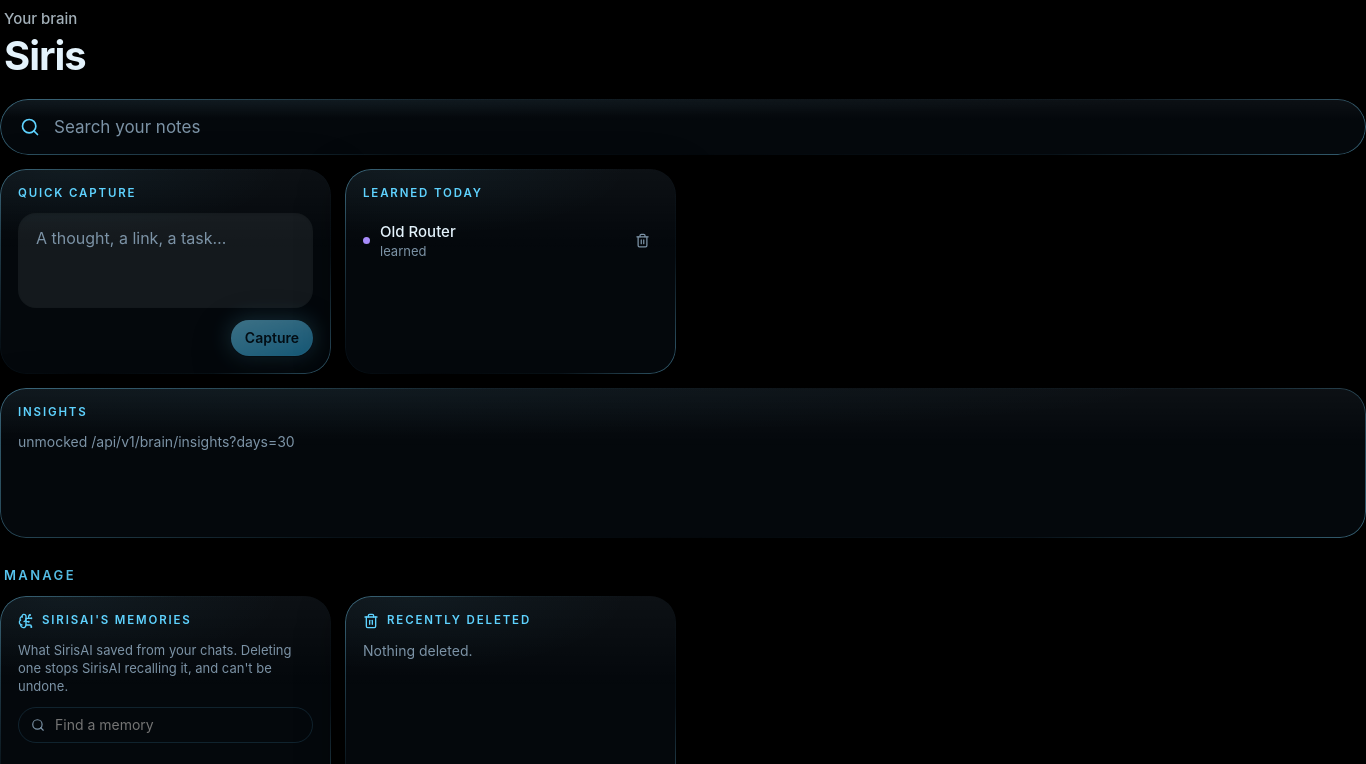
Test case: Deleting from Siris › deletes permanently when asked, with no undo
Type "router" into the field with placeholder "Search your notes". click: coordinates (699, 127)
box: [52,99,1346,155]
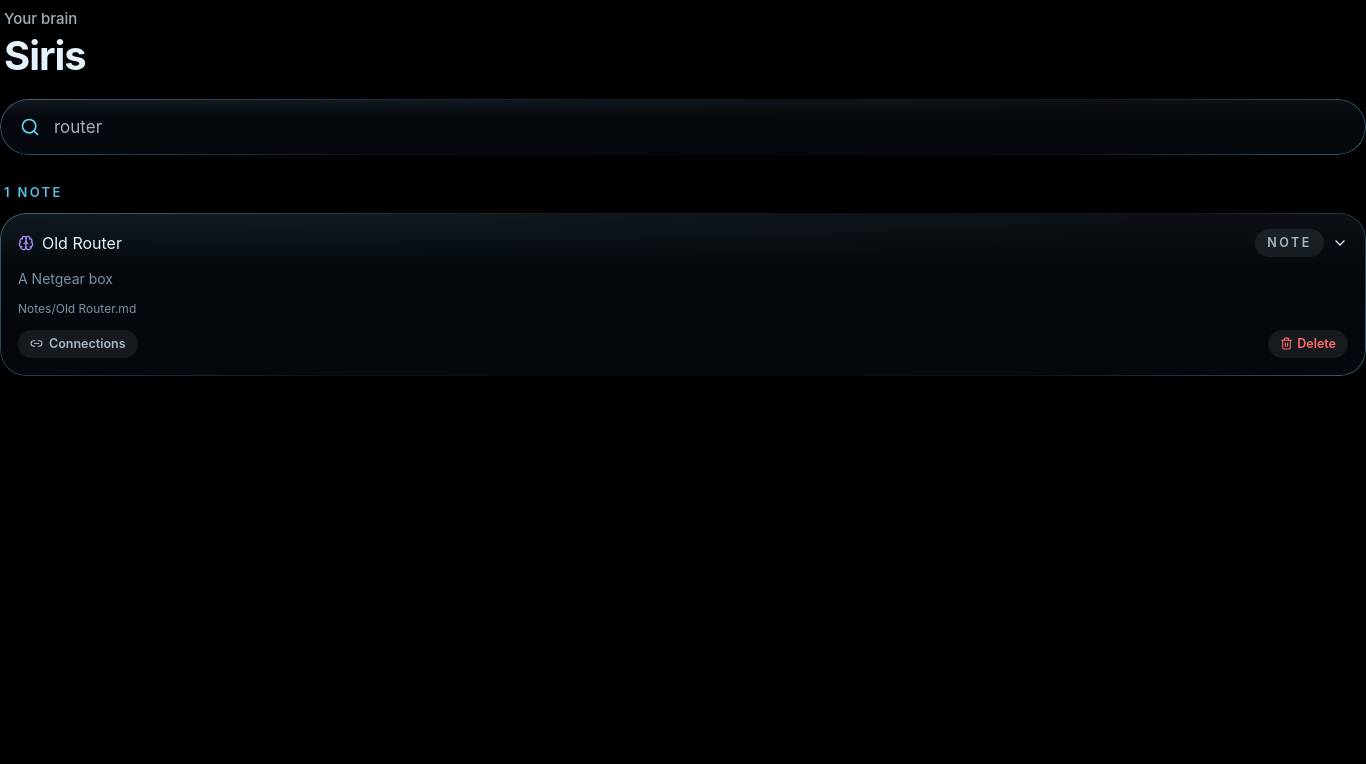
Click the button with aria-label "Delete Old Router". click: coordinates (1308, 344)
box: [1268,330,1348,358]
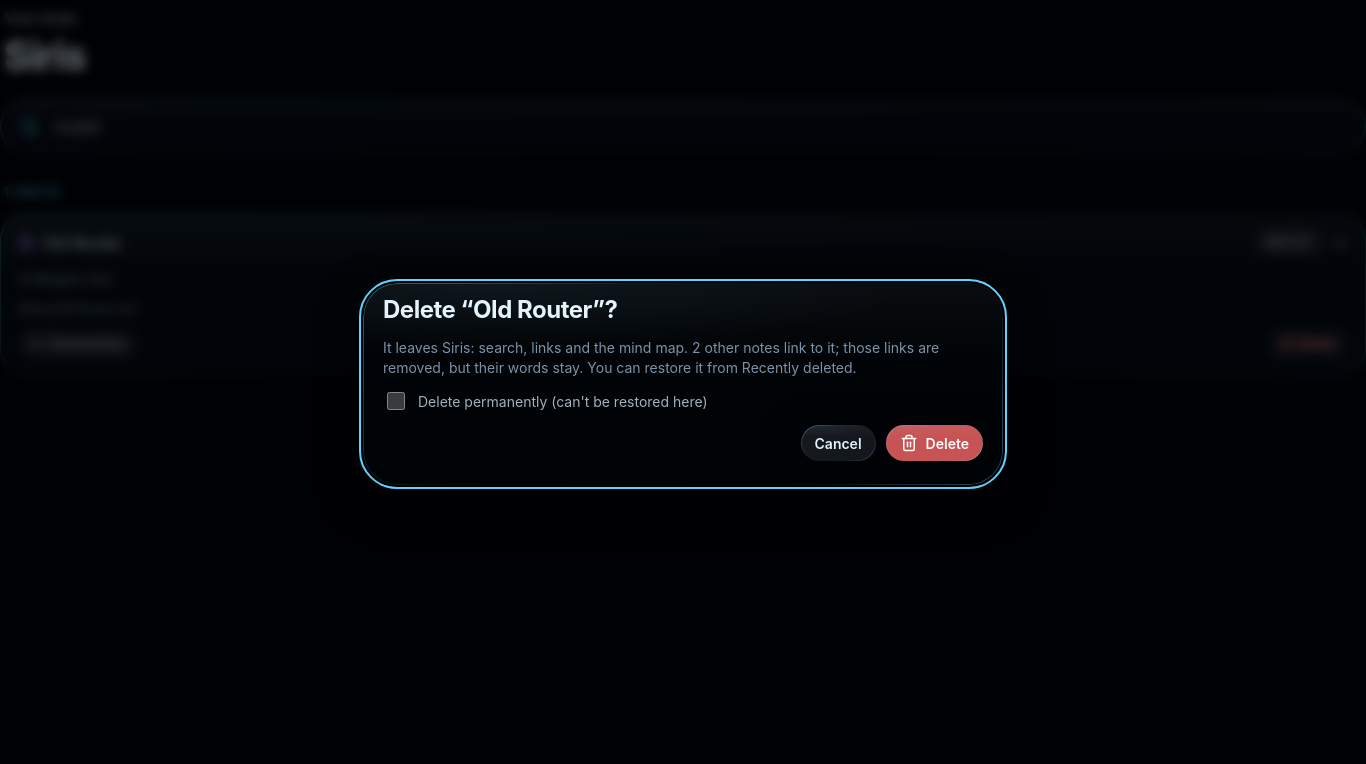
Click the checkbox labelled "Delete permanently (can't be restored here)". click: coordinates (396, 401)
box: [387,392,405,410]
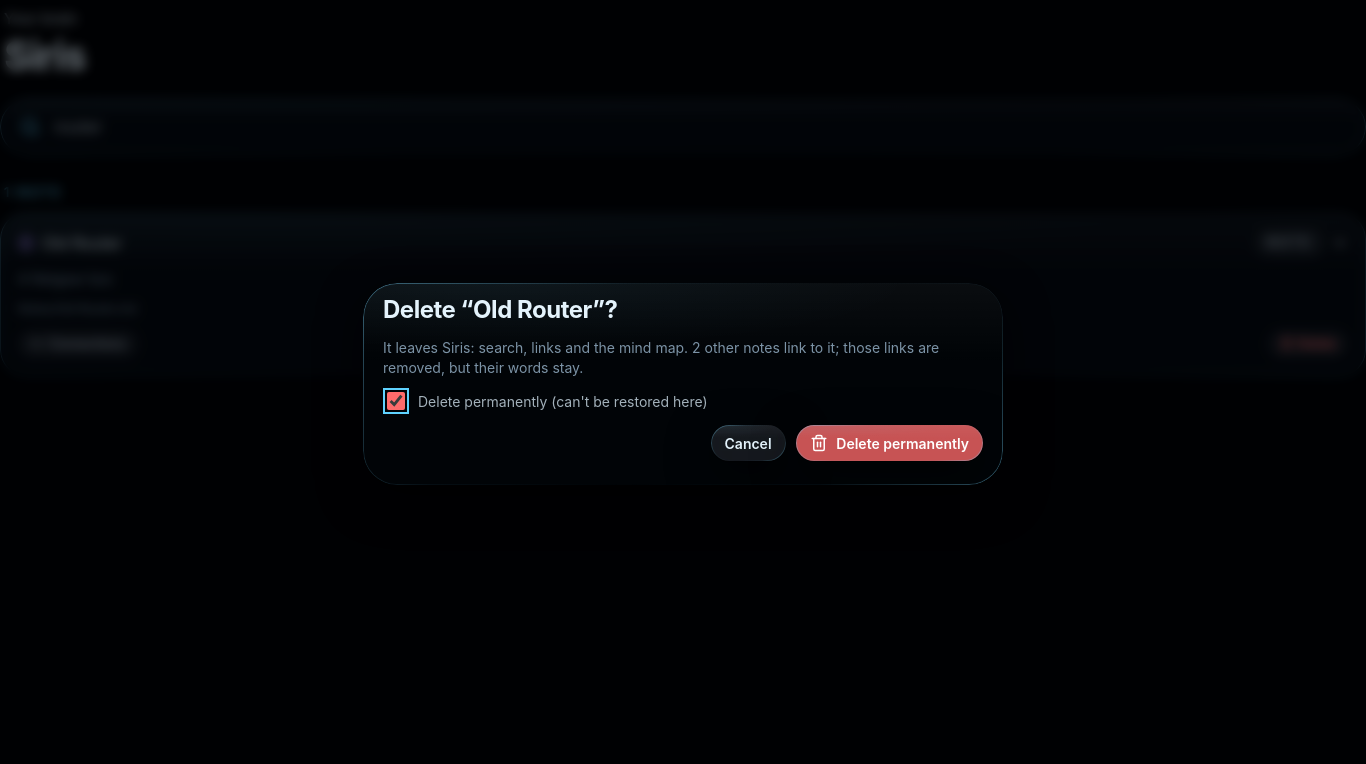
Click the button "Delete permanently". click: coordinates (890, 443)
box: [796,425,983,461]
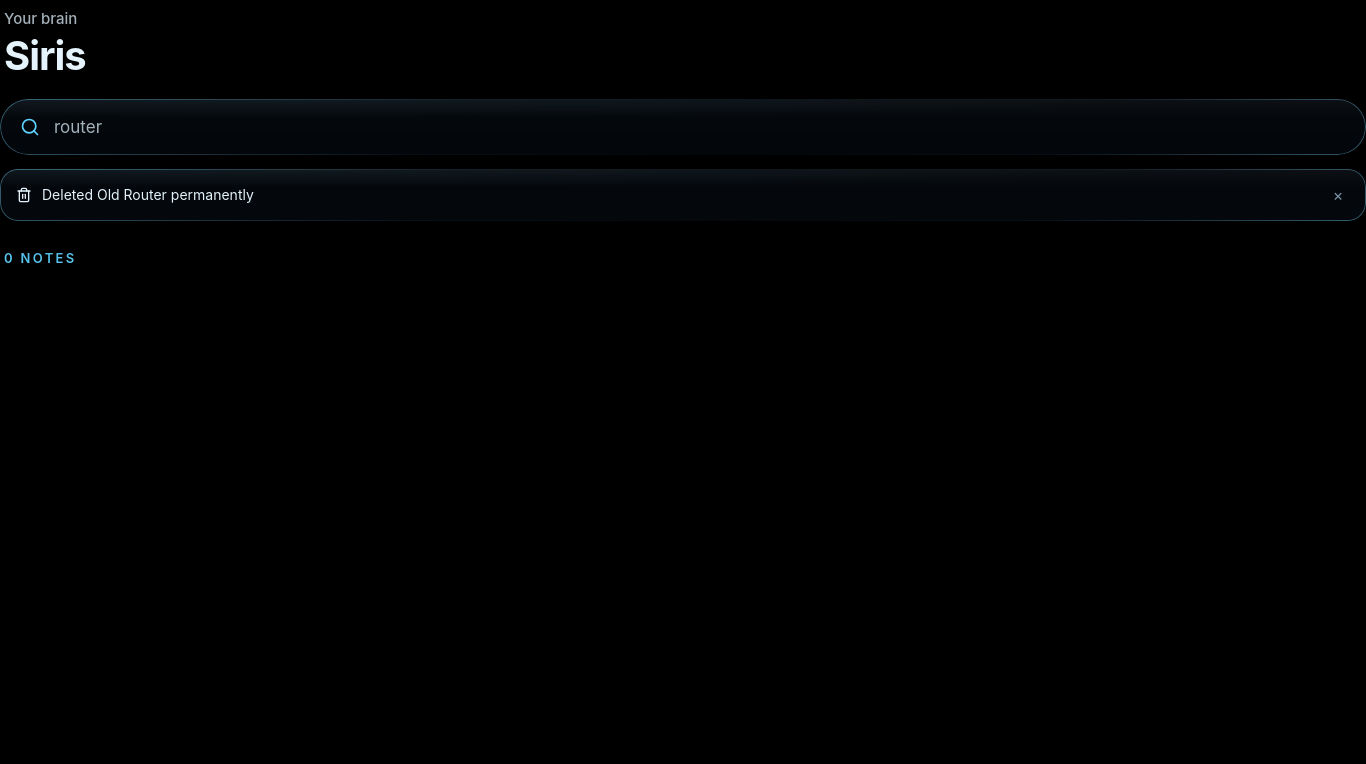
Expected: the text "Deleted Old Router permanently" is shown, [42,186,254,203]
